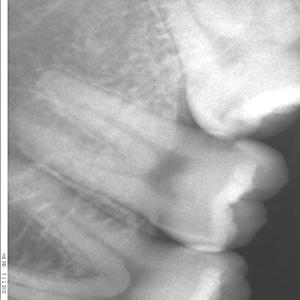tooth: (13, 67, 289, 251), (9, 157, 252, 300), (179, 2, 300, 142)
